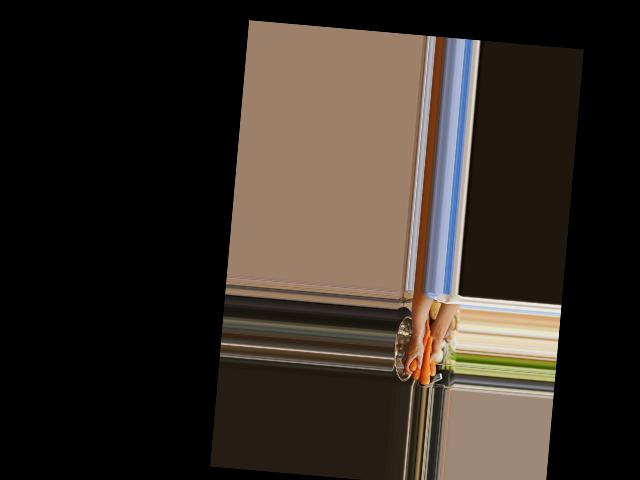carrot: (413, 326, 432, 381)
